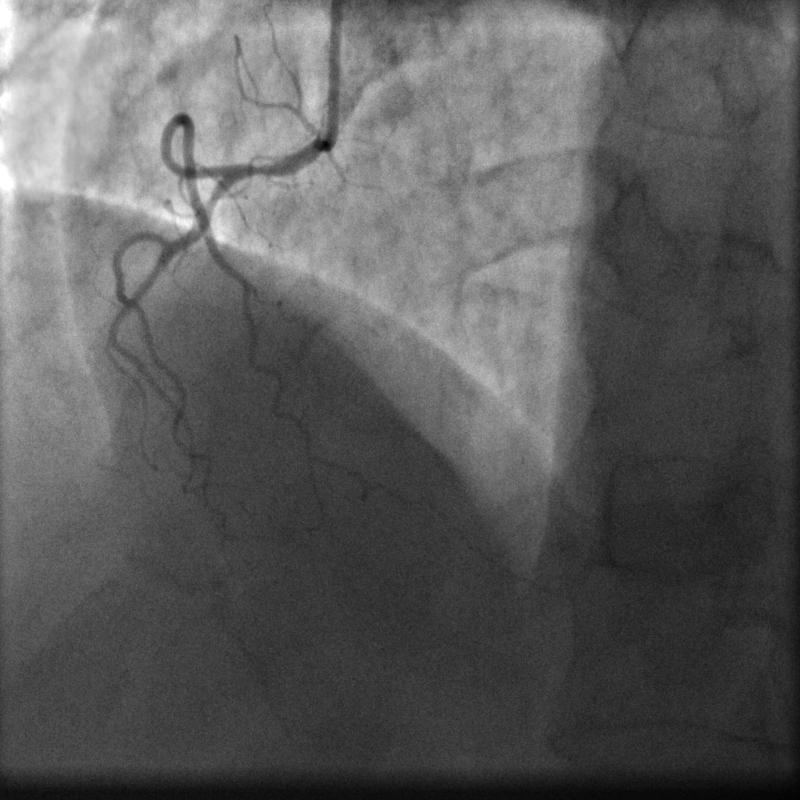Stenosis: (237, 153, 286, 187)
